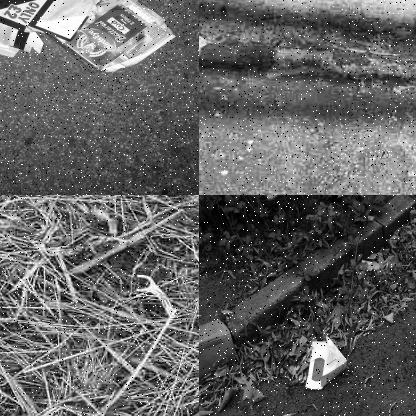cardboard: (0, 0, 116, 62)
plastic: (43, 0, 183, 73), (129, 273, 181, 323), (306, 333, 348, 391), (199, 25, 207, 64)
